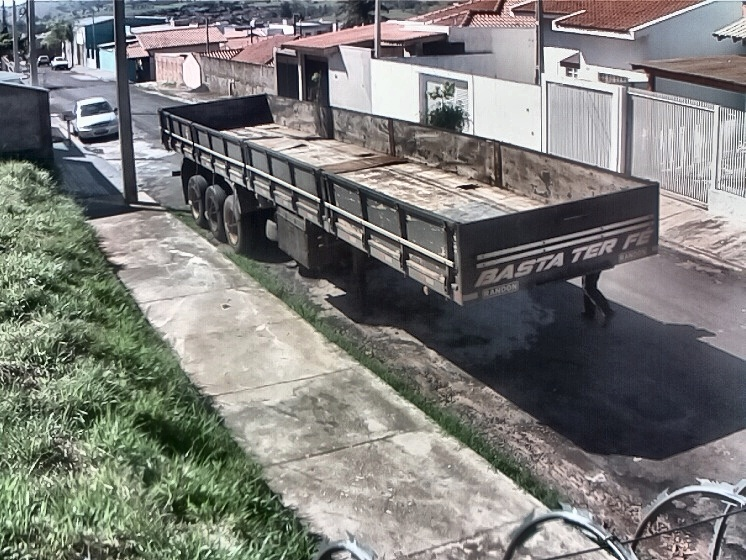person: (575, 260, 621, 329)
